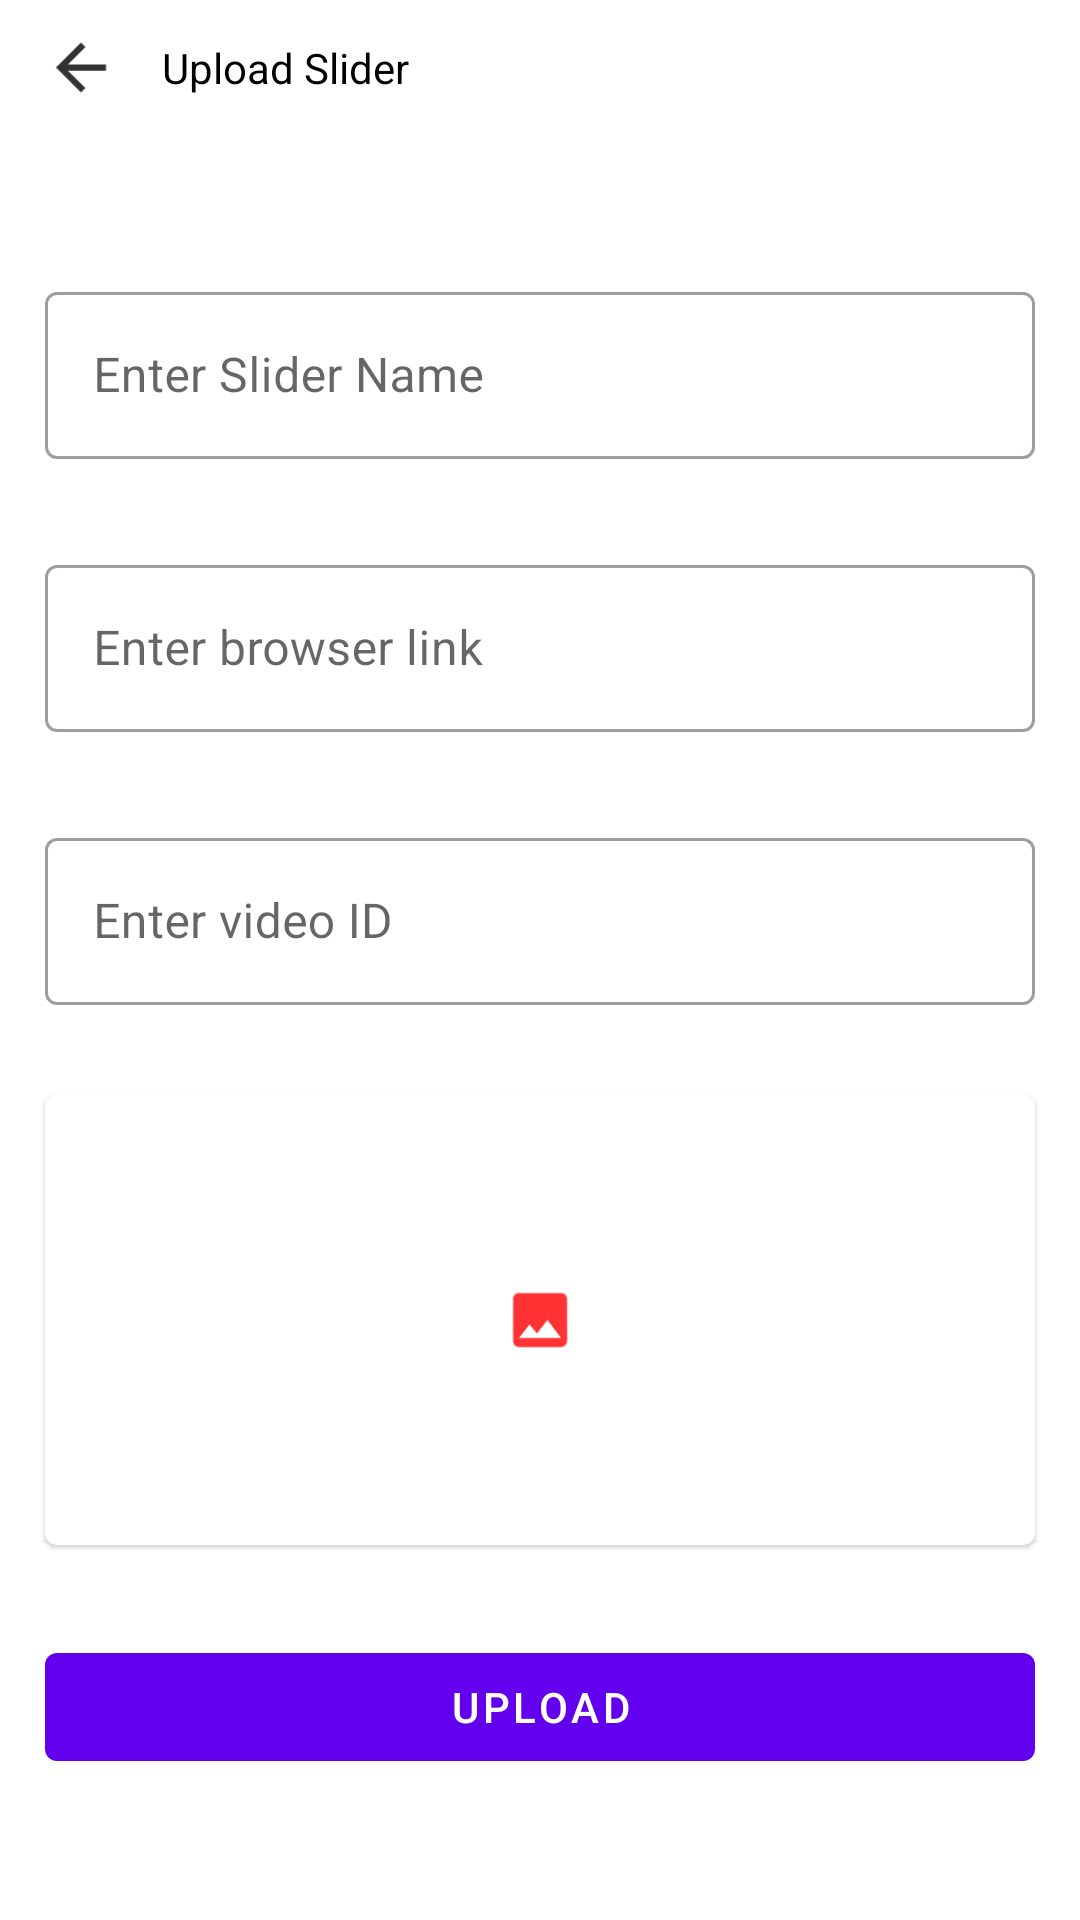

Icon click points for this 1080x1920 phone screenshot, format [x,y]:
back: [81,67]
